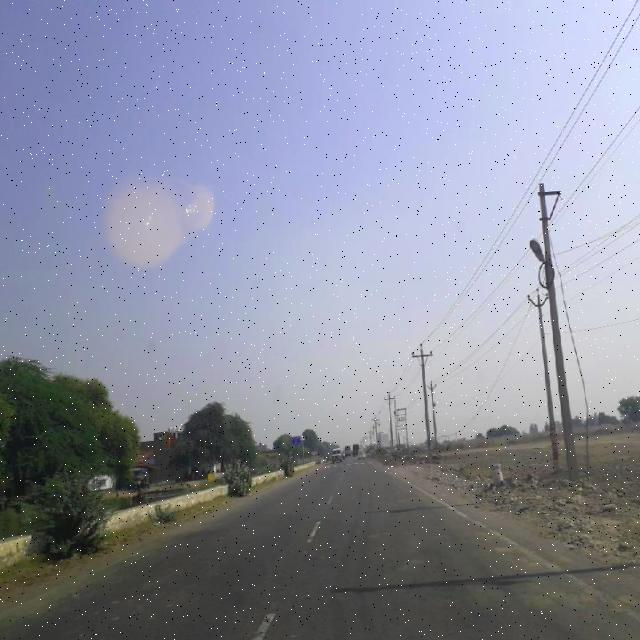D44: (218, 606, 284, 638)
